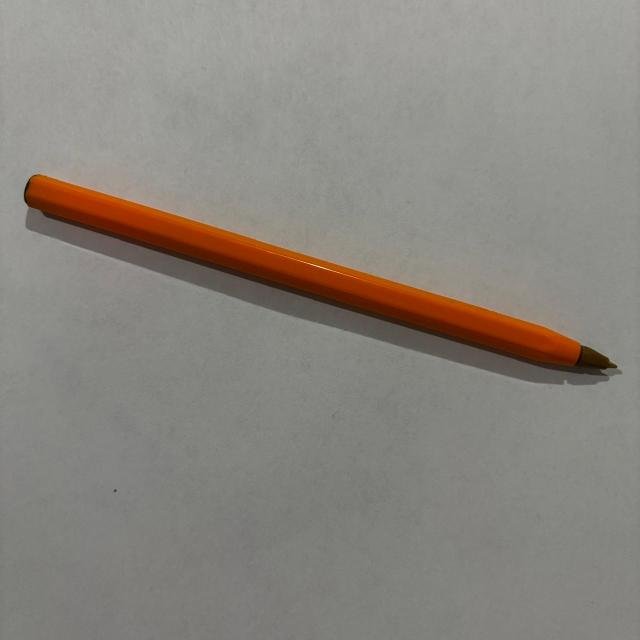pencil: (25, 173, 618, 369)
